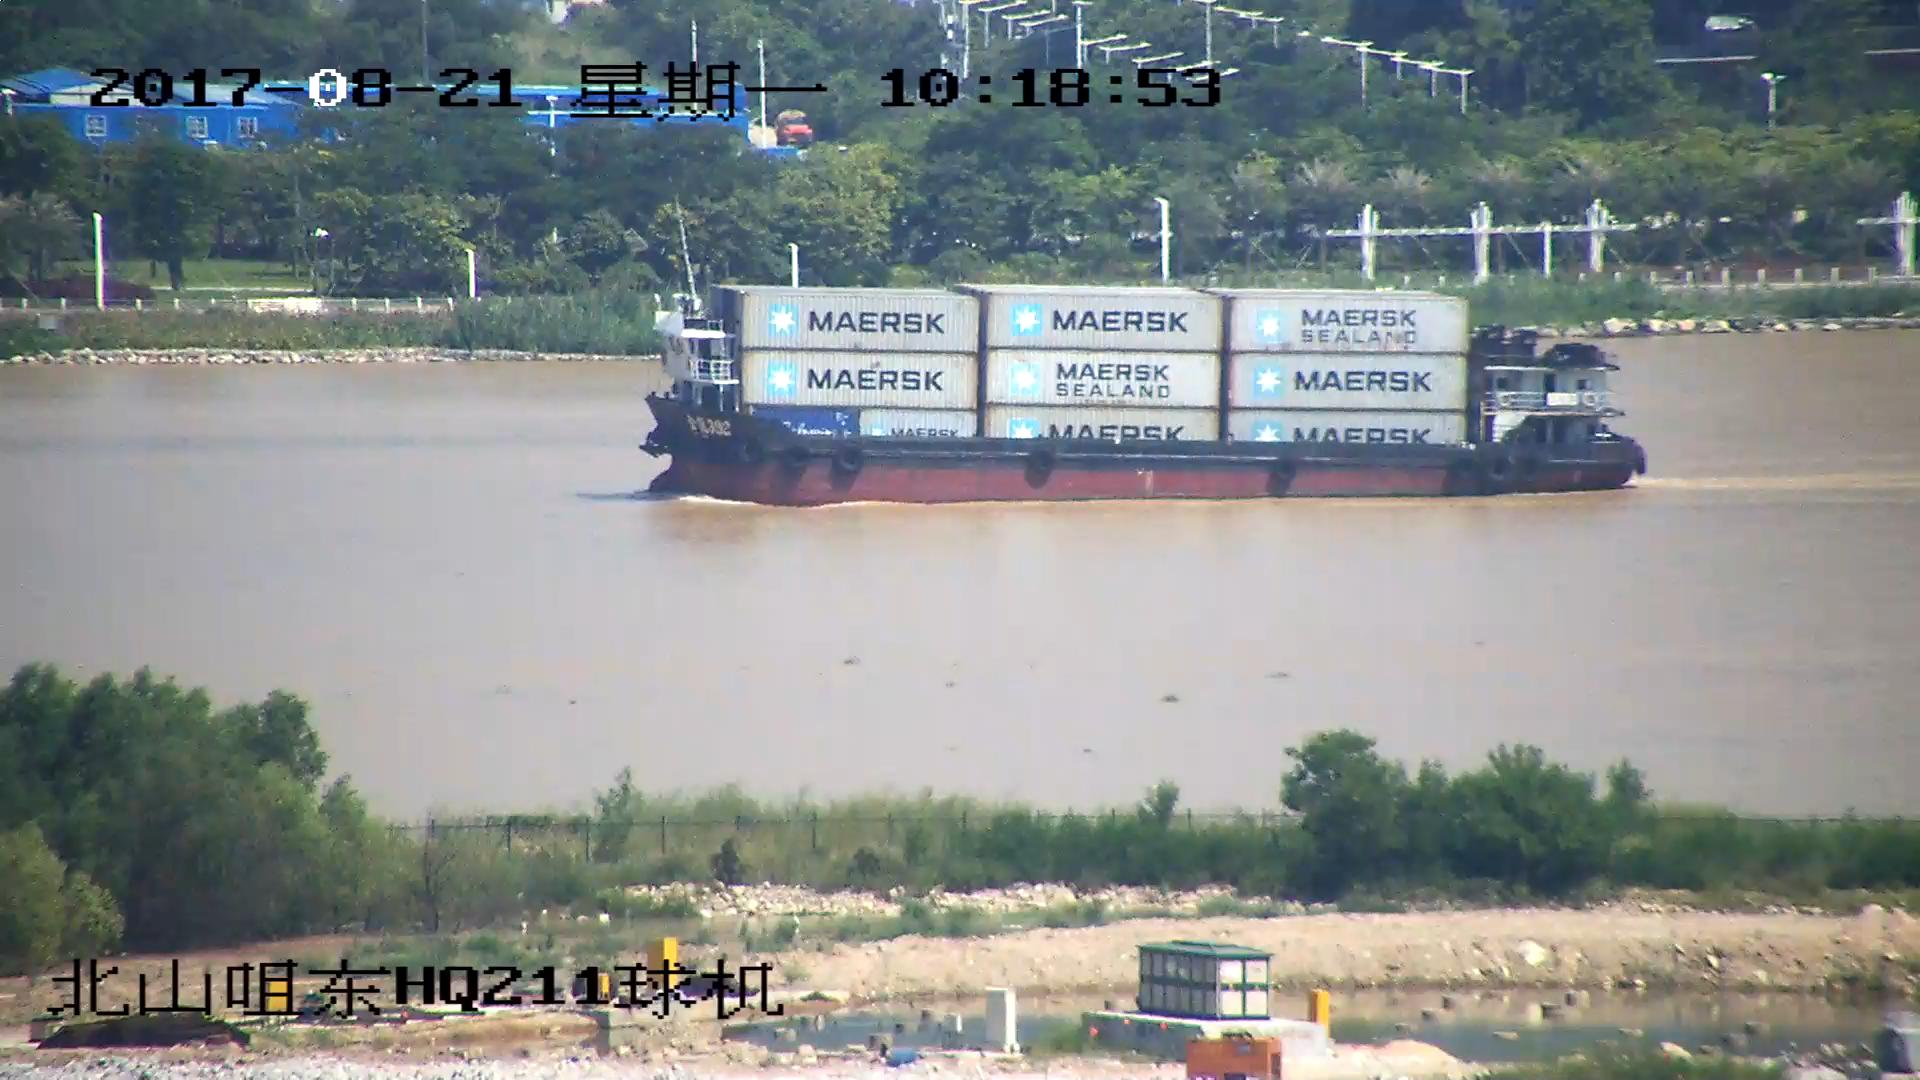container ship: (641, 208, 1648, 501)
